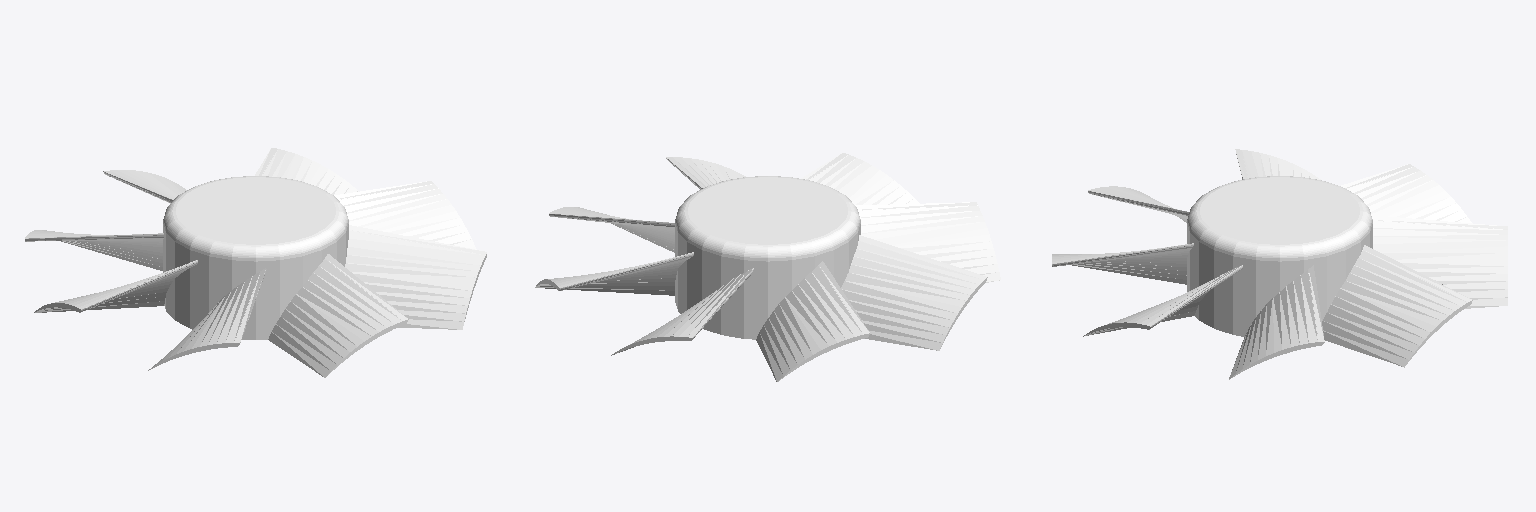
File: Fan.obj
3 views of the same model, side by side, from view 1: azimuth 30°, elevation 25°; view 2: azimuth 150°, elevation 25°; view 3: azimuth 270°, elevation 25° (orthographic).
Parts seen in each view (by area): view 1: Fan_g_3620-Default_Material, Fan_g_3624-Default_Material, Fan_g_3626-Default_Material, Fan_g_3625-Default_Material, Fan_g_3621-Default_Material, Fan_g_3622-Default_Material, Fan_g_3623-Default_Material, Fan_g_3627-Default_Material, Fan_g_3619-Default_Material; view 2: Fan_g_3620-Default_Material, Fan_g_3622-Default_Material, Fan_g_3623-Default_Material, Fan_g_3621-Default_Material, Fan_g_3626-Default_Material, Fan_g_3627-Default_Material, Fan_g_3619-Default_Material, Fan_g_3625-Default_Material, Fan_g_3624-Default_Material; view 3: Fan_g_3620-Default_Material, Fan_g_3627-Default_Material, Fan_g_3619-Default_Material, Fan_g_3625-Default_Material, Fan_g_3623-Default_Material, Fan_g_3626-Default_Material, Fan_g_3624-Default_Material, Fan_g_3622-Default_Material, Fan_g_3621-Default_Material.
Boxes of the visible parts, x1=… form: Fan_g_3620-Default_Material: x1=163, y1=176, x2=348, y2=339; Fan_g_3624-Default_Material: x1=345, y1=225, x2=486, y2=329; Fan_g_3626-Default_Material: x1=268, y1=254, x2=408, y2=377; Fan_g_3625-Default_Material: x1=334, y1=181, x2=476, y2=249; Fan_g_3621-Default_Material: x1=148, y1=268, x2=266, y2=370; Fan_g_3622-Default_Material: x1=34, y1=260, x2=197, y2=312; Fan_g_3623-Default_Material: x1=25, y1=230, x2=163, y2=270; Fan_g_3627-Default_Material: x1=255, y1=148, x2=358, y2=194; Fan_g_3619-Default_Material: x1=103, y1=170, x2=186, y2=203; Fan_g_3620-Default_Material: x1=675, y1=176, x2=860, y2=339; Fan_g_3622-Default_Material: x1=841, y1=235, x2=987, y2=350; Fan_g_3623-Default_Material: x1=756, y1=261, x2=869, y2=381; Fan_g_3621-Default_Material: x1=855, y1=202, x2=1000, y2=282; Fan_g_3626-Default_Material: x1=801, y1=153, x2=919, y2=204; Fan_g_3627-Default_Material: x1=535, y1=252, x2=693, y2=295; Fan_g_3619-Default_Material: x1=611, y1=268, x2=753, y2=355; Fan_g_3625-Default_Material: x1=549, y1=207, x2=674, y2=252; Fan_g_3624-Default_Material: x1=666, y1=157, x2=745, y2=189; Fan_g_3620-Default_Material: x1=1187, y1=176, x2=1372, y2=336; Fan_g_3627-Default_Material: x1=1322, y1=245, x2=1472, y2=367; Fan_g_3619-Default_Material: x1=1371, y1=215, x2=1507, y2=308; Fan_g_3625-Default_Material: x1=1229, y1=265, x2=1324, y2=379; Fan_g_3623-Default_Material: x1=1341, y1=164, x2=1471, y2=222; Fan_g_3626-Default_Material: x1=1052, y1=243, x2=1193, y2=284; Fan_g_3624-Default_Material: x1=1083, y1=265, x2=1242, y2=336; Fan_g_3622-Default_Material: x1=1235, y1=149, x2=1320, y2=179; Fan_g_3621-Default_Material: x1=1088, y1=186, x2=1188, y2=222.
Size of the model in its own units: 0.0733 by 0.016 by 0.0733.